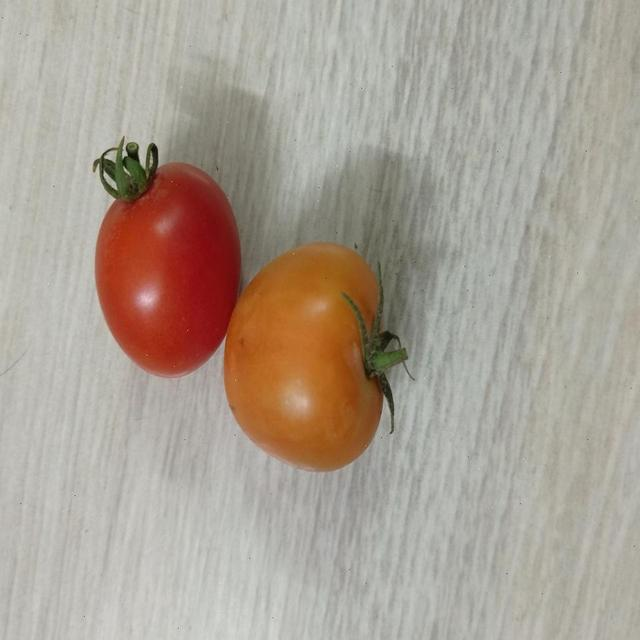Healthy Fruit: (102, 148, 209, 236)
